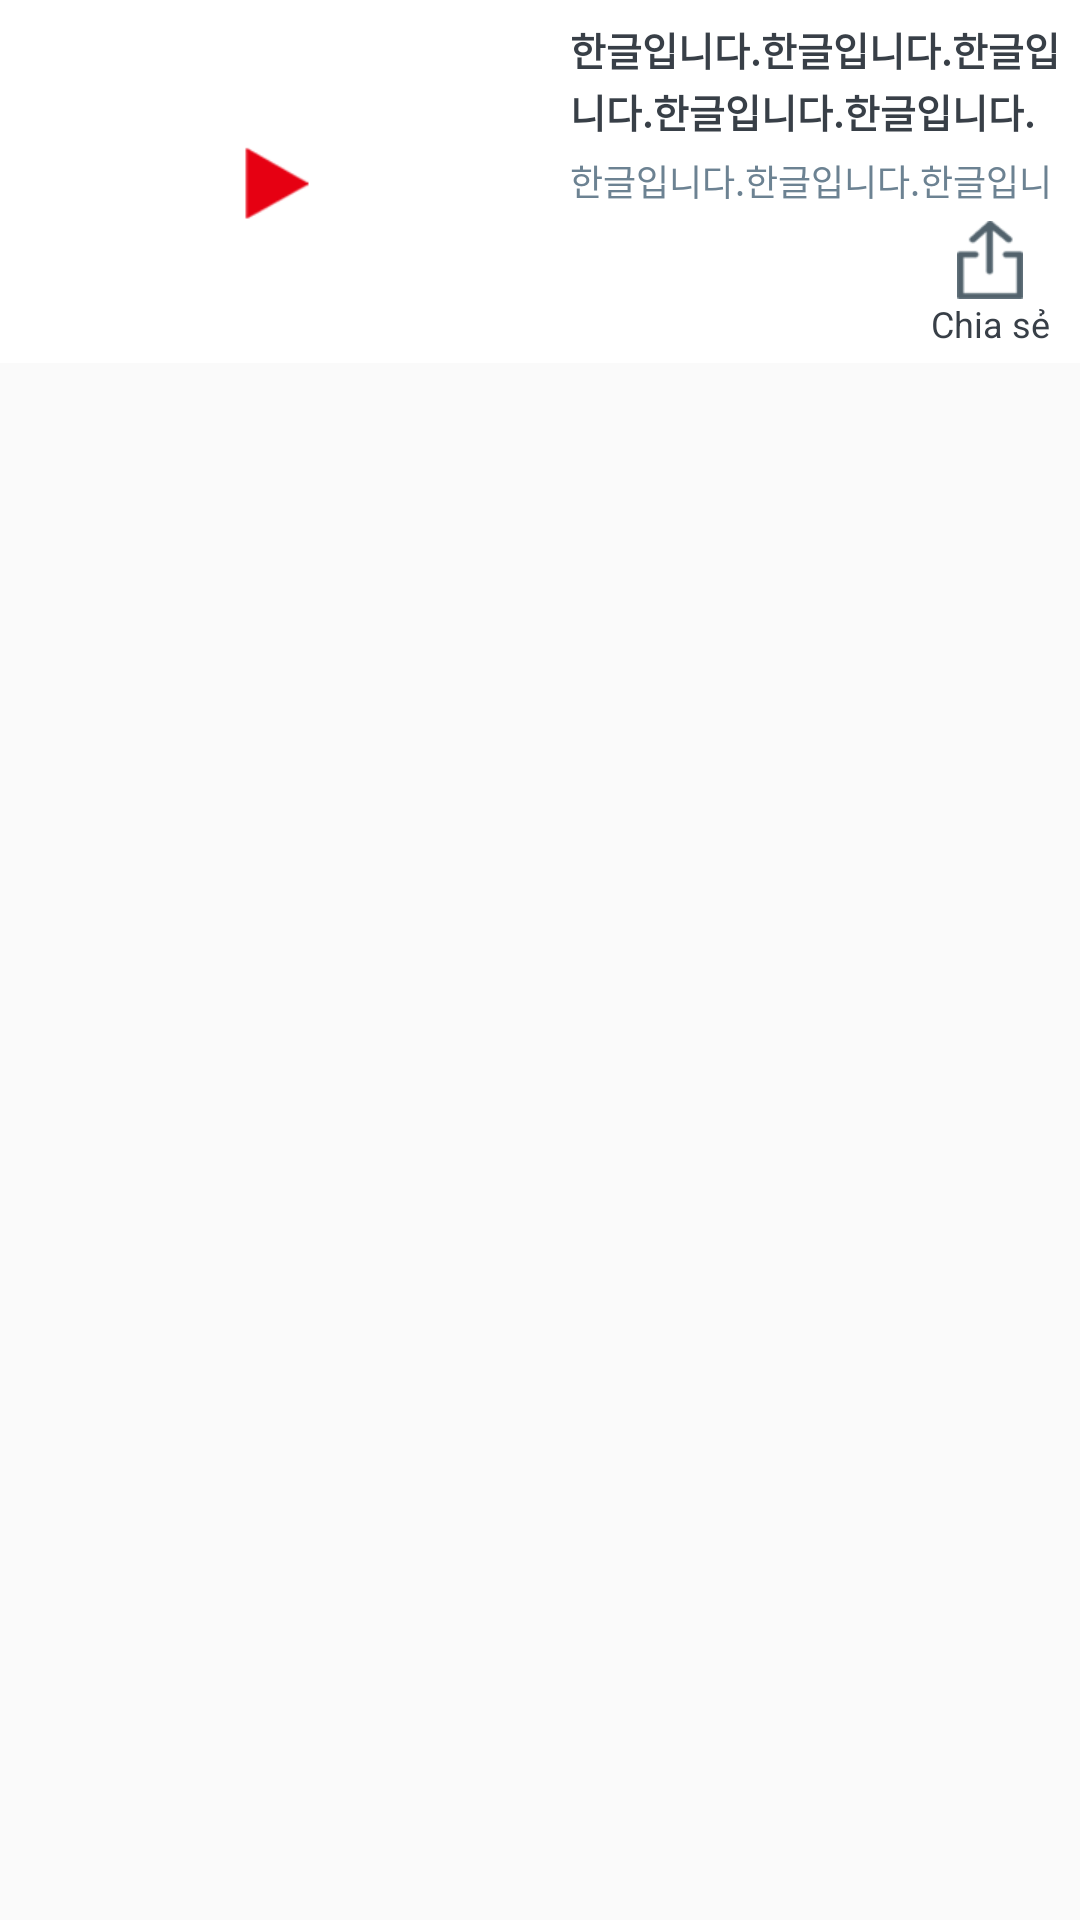

Point at icon controls on the screen. Image size 1080px×1920px, points as (x,y).
list play: (277,183)
